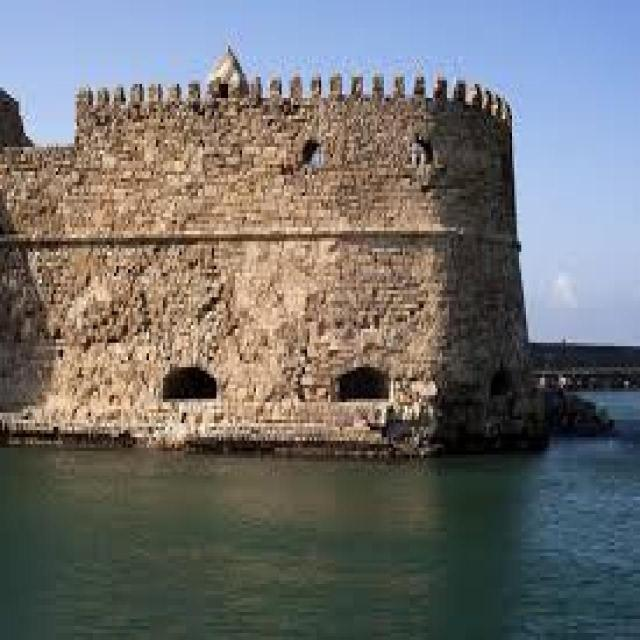Kules: (1, 39, 553, 455)
